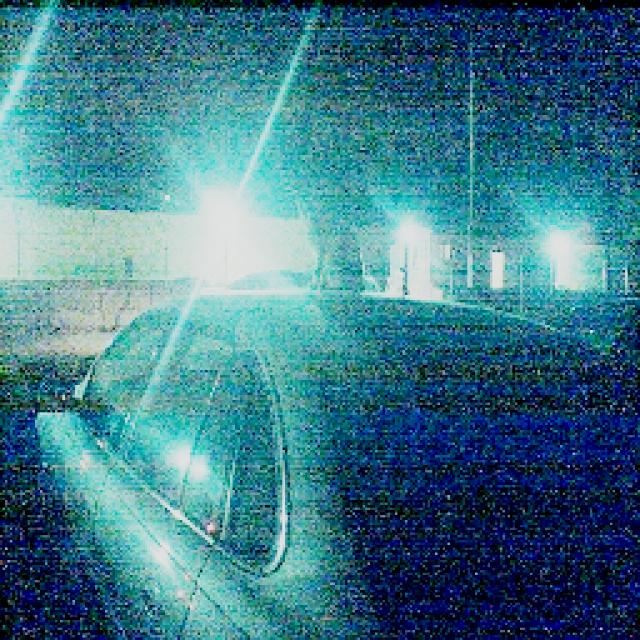cat: (294, 195, 372, 288)
